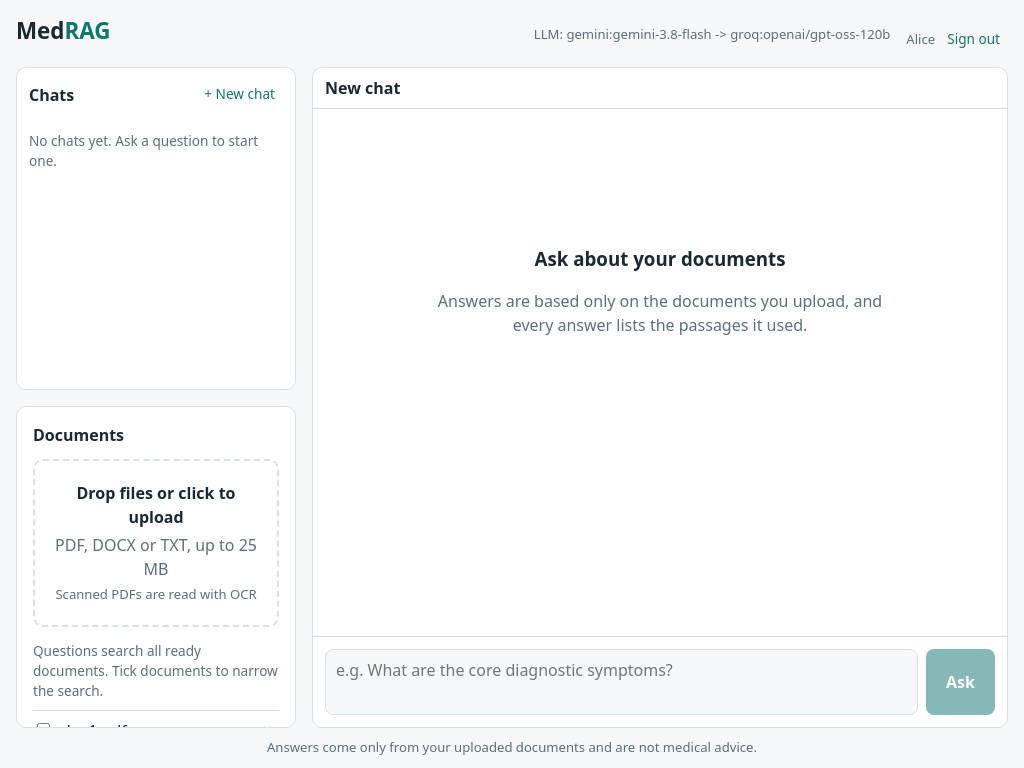
Test: signing in and out › returns to the sign-in screen when the session expires
This screenshot has width=1024, height=768.
Type "Q?" into the text box named "Question".
click(622, 682); type("Q?")  # box left=325, top=649, right=918, bottom=715
Then press Enter
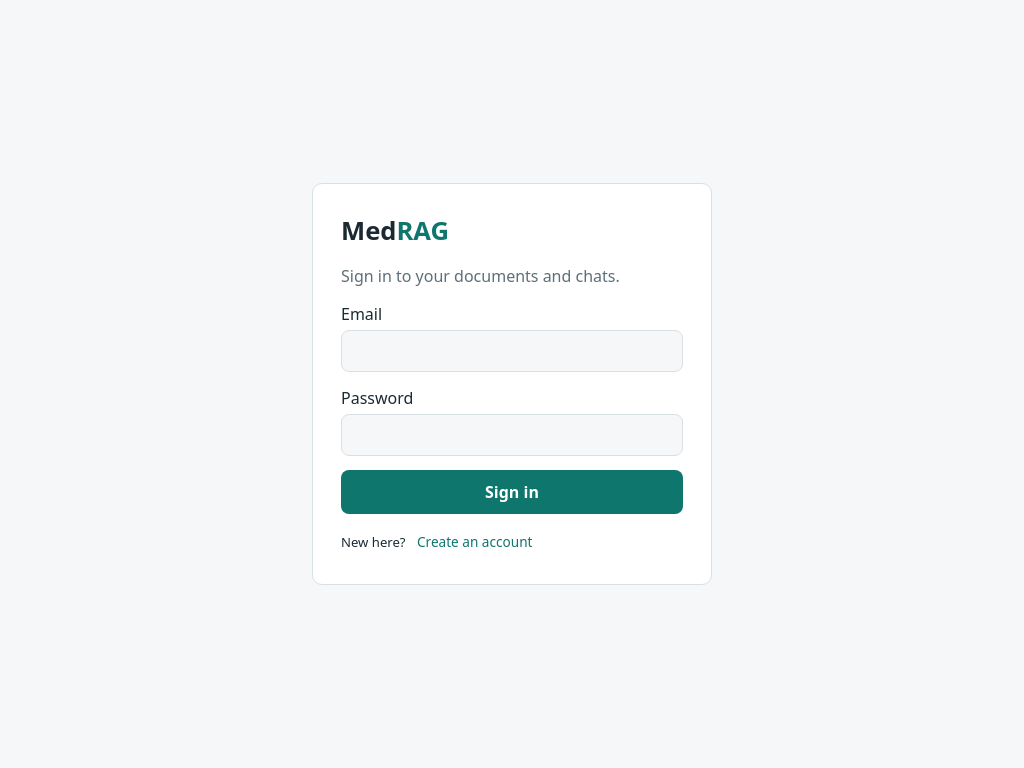
Now the button "Sign in" is shown, box left=341, top=470, right=683, bottom=514
